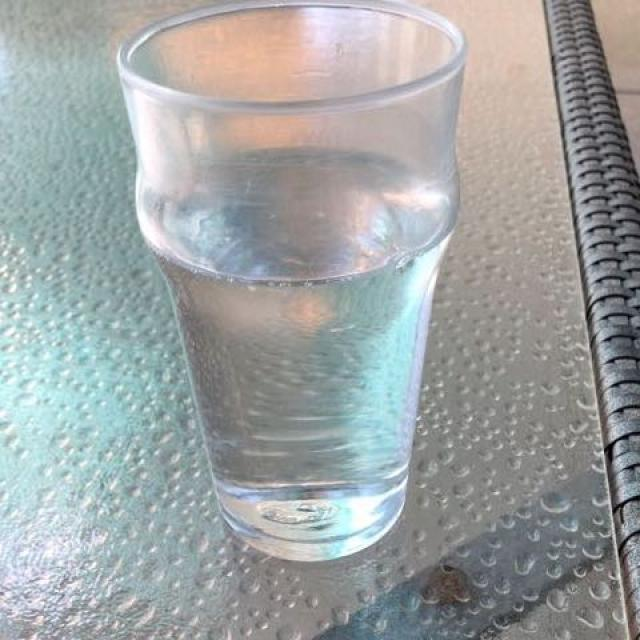water: (145, 139, 446, 563)
